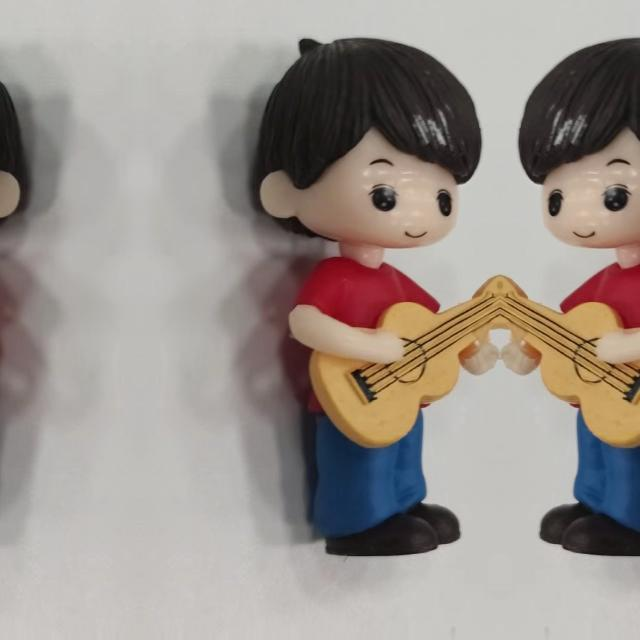man cloth: (293, 258, 443, 414), (557, 257, 640, 414)
man head: (250, 28, 484, 256), (515, 27, 640, 256), (0, 27, 30, 256)
trousers: (306, 390, 467, 566), (533, 390, 640, 565)
